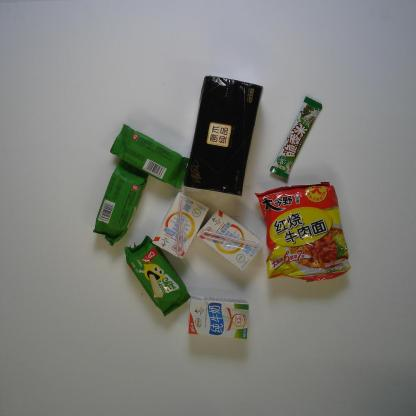Chocolate: (267, 95, 325, 180)
Dessert: (120, 234, 192, 318), (107, 122, 192, 188), (91, 159, 152, 245)
Instant Noodles: (252, 178, 352, 284)
Milk: (197, 207, 265, 274), (152, 191, 211, 263), (186, 294, 250, 341)
Tissue: (183, 75, 264, 198)
